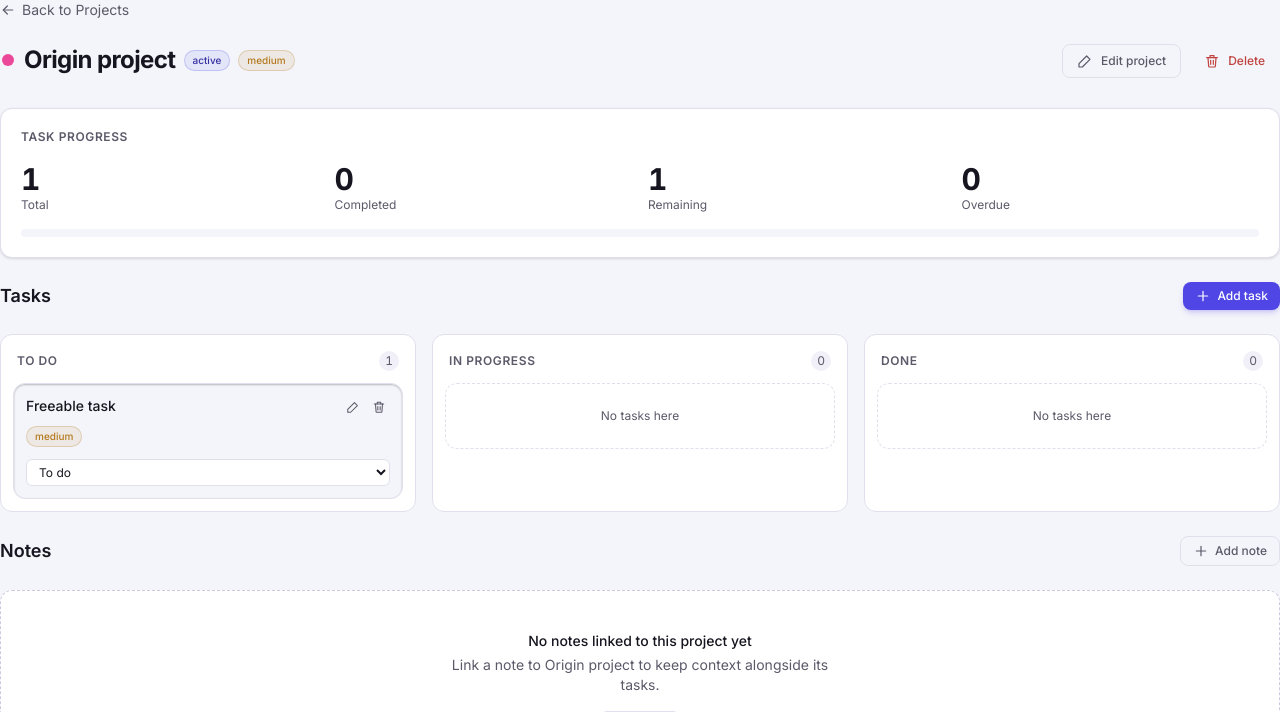
ProjectDetailPage › unassigns a task from its project through the edit form
Click the button named "edit \"freeable task\"": (353, 407) [342,396,364,418]
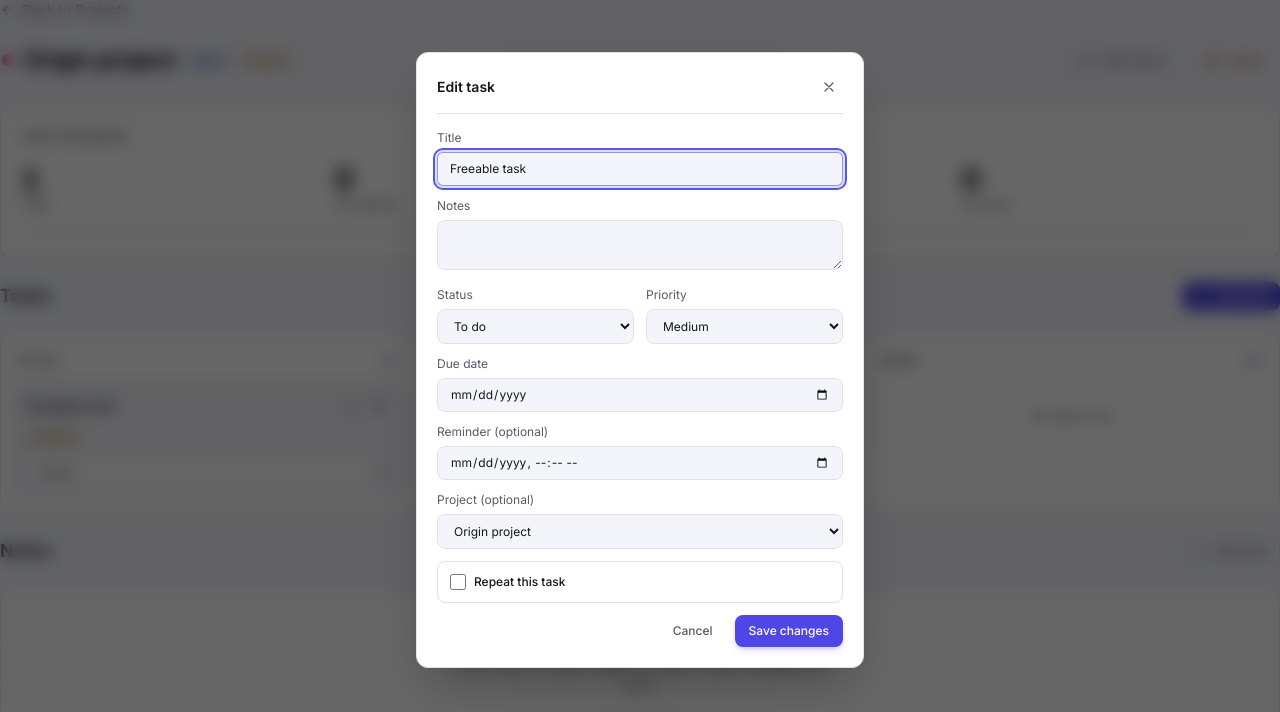
Select "No project" in the dropdown labelled "Project (optional)": (640, 532) [437,514,843,549]
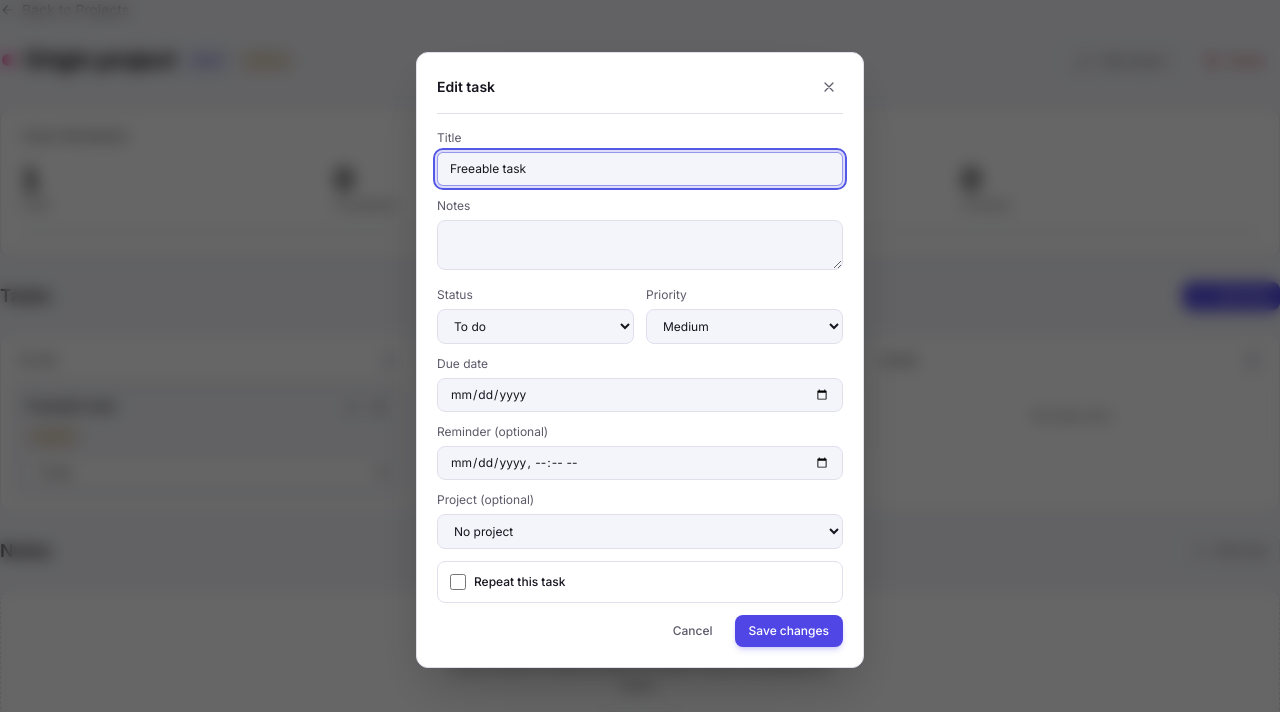
Click the button "Save changes": (789, 631) [735,615,843,647]
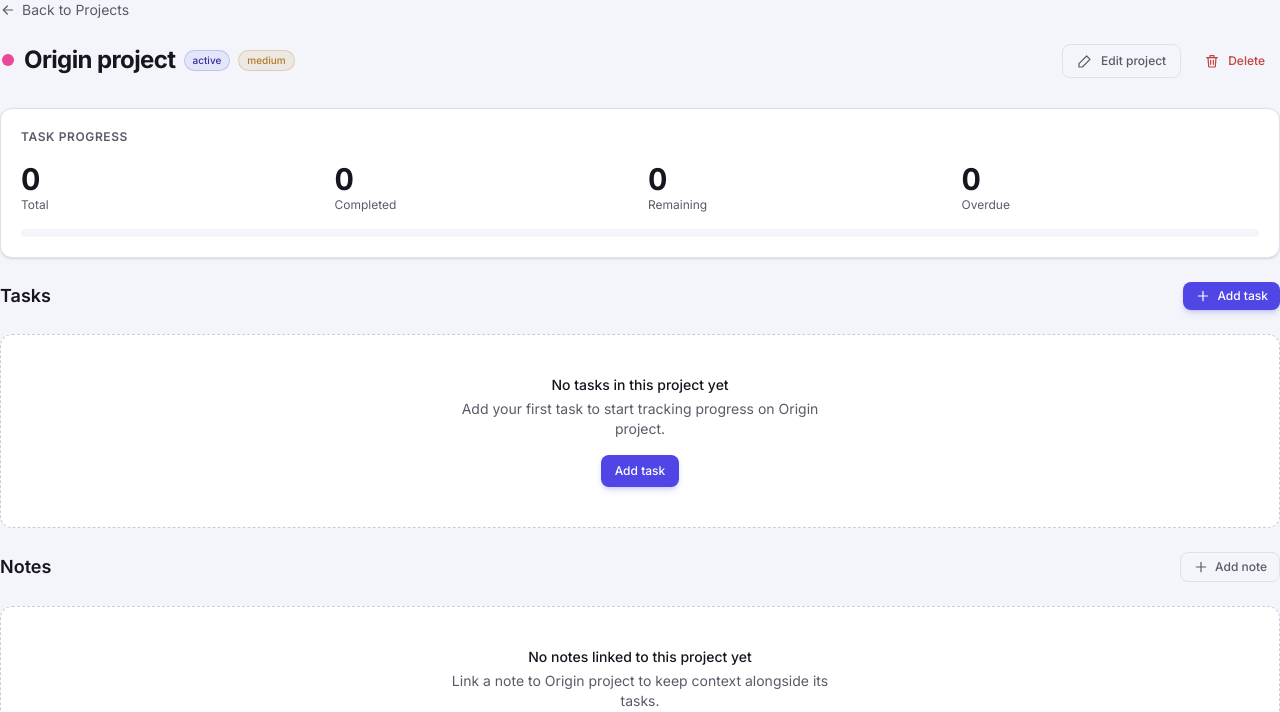
Check: the dialog is gone
